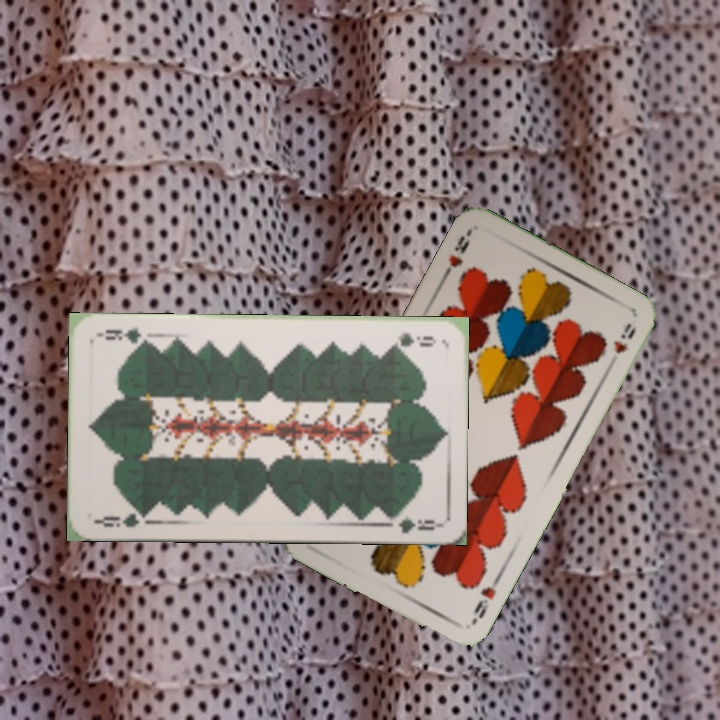G9: (91, 506, 151, 530), (386, 329, 439, 350)
H9: (438, 231, 472, 282), (469, 573, 503, 621)
